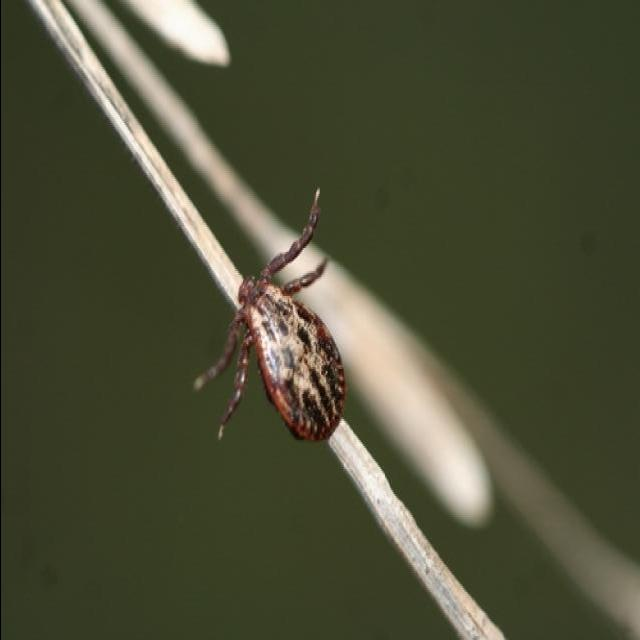Dermacentor Reticulatus-M: (195, 196, 349, 444)
